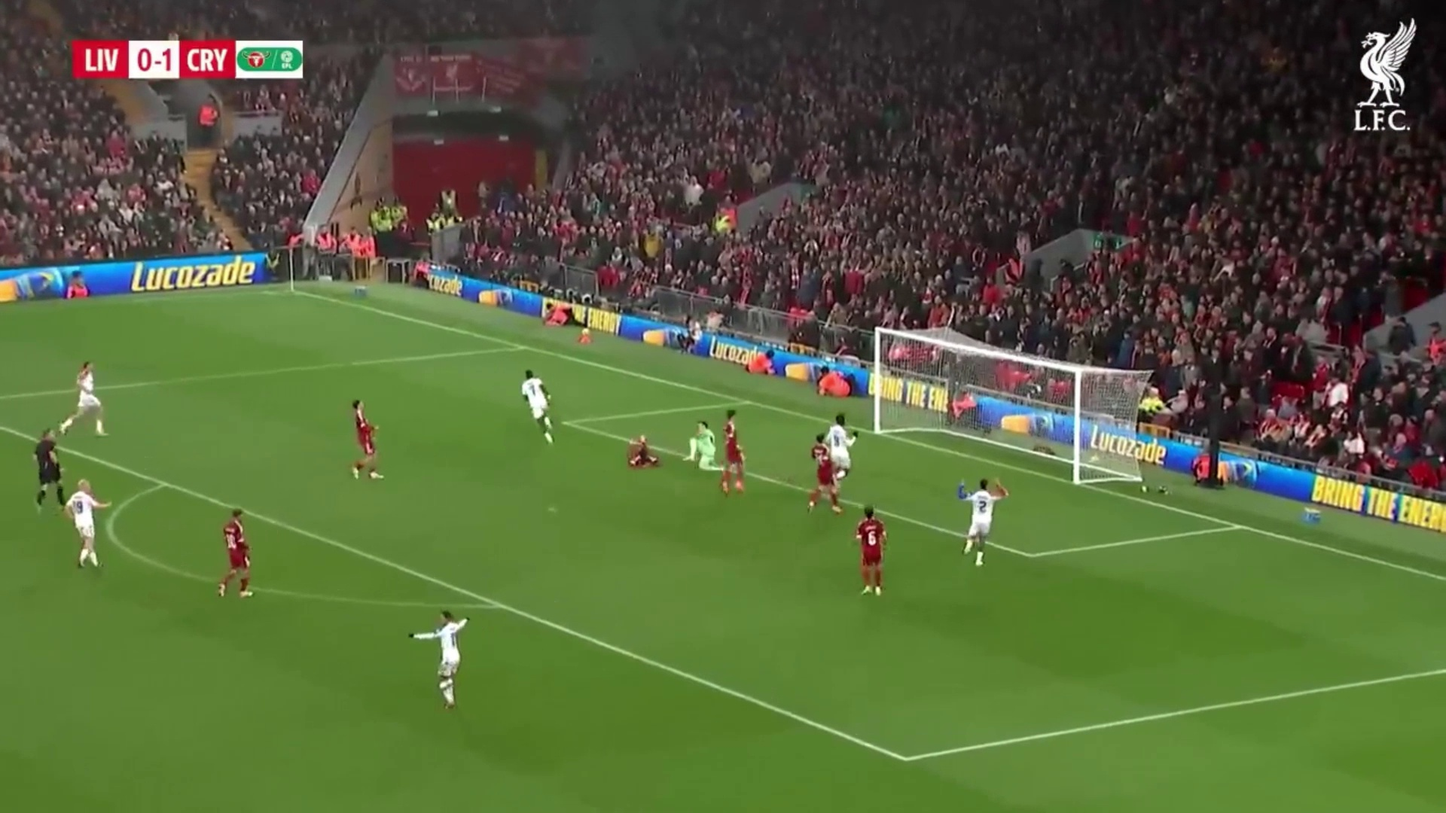player: (410, 610, 467, 710), (961, 478, 1008, 567), (55, 360, 106, 437), (65, 480, 104, 572), (219, 510, 253, 601), (434, 612, 465, 709), (854, 508, 886, 597), (350, 396, 383, 482), (68, 361, 105, 437), (808, 440, 845, 513), (719, 417, 746, 497), (521, 370, 551, 441), (34, 431, 60, 503), (827, 419, 852, 482), (826, 414, 855, 468), (689, 422, 716, 471), (627, 435, 658, 468)
